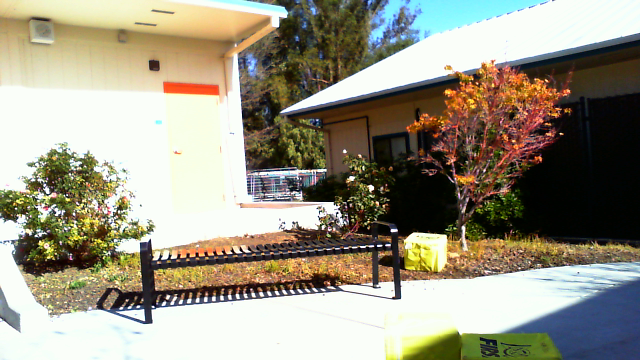cube: (383, 311, 461, 360), (462, 331, 564, 360), (404, 231, 447, 273)
